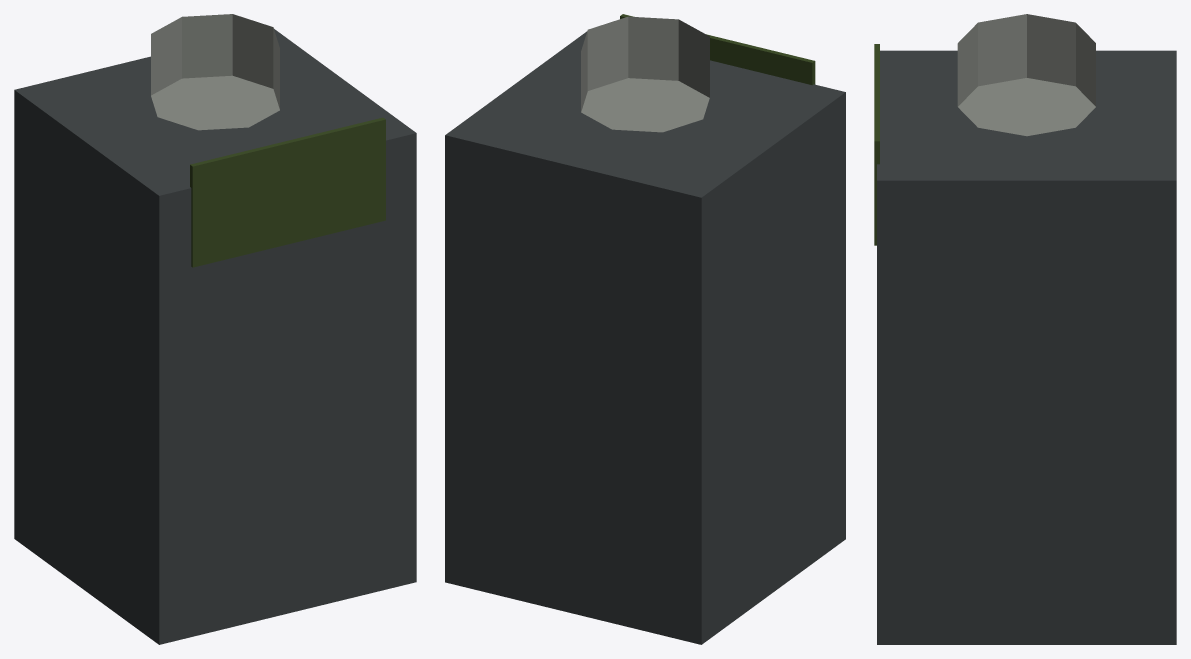
The model's file is pulpit.glb.
3 views of the same model, side by side, from view 1: azimuth 30°, elevation 25°; view 2: azimuth 150°, elevation 25°; view 3: azimuth 270°, elevation 25° (orthographic). The views are drawn at different scales.
Visible parts, largest first — view 1: body; view 2: body; view 3: body.
Boxes of the visible parts, x1,y1,x2,y2 form: body: [14, 14, 416, 644]; body: [445, 14, 845, 644]; body: [874, 14, 1176, 644].
Size of the model in its own units: 0.96 by 1.85 by 0.945.
Materials: 1 (1 with a texture image).
